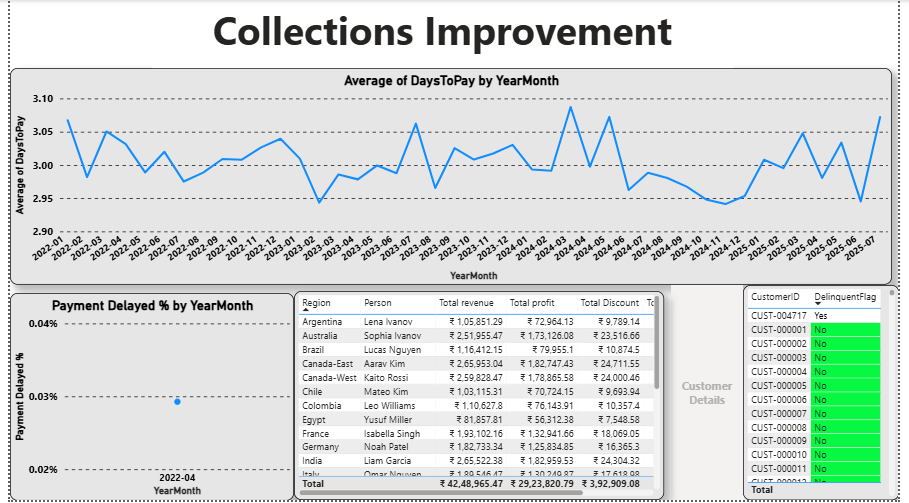

What the dashboard file says about the page in this screenshot:
{"tool":"powerbi","page":{"name":"Collections Improving","canvas":[1280,720],"ordinal":4},"visuals":[{"type":"lineChart","fields":{"Category":["Calendar.YearMonth"],"Y":["Avg(Telecom_Usage_Fact.DaysToPay)"]},"box":[0,97.9,1270.1,312.5],"z":0},{"type":"lineChart","fields":{"Category":["Calendar.YearMonth"],"Y":["Measure.Payment Delayed %"]},"box":[0,421.4,409.2,299],"z":1000},{"type":"textbox","box":[204.5,0,836.6,97.9],"z":2000},{"type":"tableEx","fields":{"Values":["Telecom_Customers.CustomerID","Telecom_Usage_Fact.DelinquentFlag"]},"box":[1055.5,410.4,224.6,309.6],"z":12000},{"type":"actionButton","box":[951.8,410.4,103.7,309.6],"z":13000},{"type":"tableEx","fields":{"Values":["Telecom_RegionalPeople.Region","Telecom_RegionalPeople.Person","Measure.Total revenue","Measure.Total profit","Measure.Total Discount","Measure.Total Profit Margin Pct"]},"box":[409,419,532.8,301],"z":14000}]}

Visuals, with their boxes in screenshot pixels (x1, y1, x2, y2), scaled from the page's 1280x720 canvas onto the 909x503 screenshot:
lineChart - Calendar.YearMonth x Avg(Telecom_Usage_Fact.DaysToPay): {"x1": 0, "y1": 68, "x2": 902, "y2": 287}
lineChart - Calendar.YearMonth x Measure.Payment Delayed %: {"x1": 0, "y1": 294, "x2": 291, "y2": 502}
textbox: {"x1": 145, "y1": 0, "x2": 739, "y2": 68}
tableEx - Telecom_Customers.CustomerID x Telecom_Usage_Fact.DelinquentFlag: {"x1": 750, "y1": 287, "x2": 908, "y2": 502}
actionButton: {"x1": 676, "y1": 287, "x2": 750, "y2": 502}
tableEx - Telecom_RegionalPeople.Region x Telecom_RegionalPeople.Person: {"x1": 290, "y1": 293, "x2": 669, "y2": 502}
